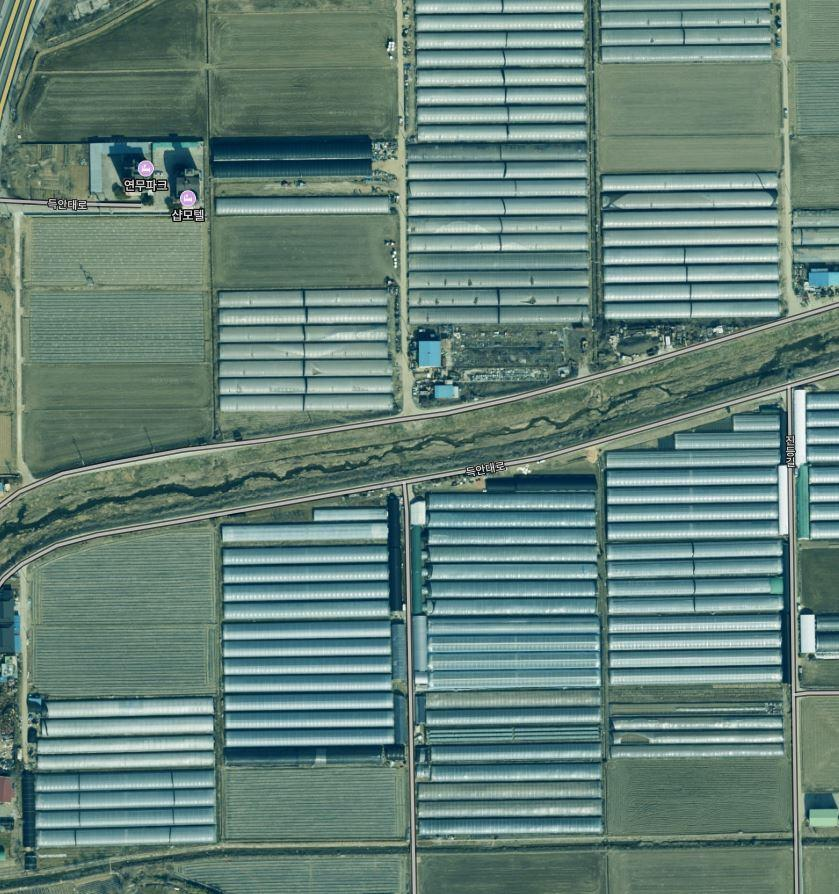greenhouse: (420, 701, 606, 735), (26, 782, 222, 814), (599, 572, 794, 604), (404, 156, 598, 188), (597, 259, 790, 291), (210, 130, 381, 166), (594, 185, 786, 217), (424, 611, 610, 644), (601, 296, 787, 328), (409, 738, 607, 768), (595, 167, 786, 198), (601, 240, 790, 271), (602, 591, 795, 621), (599, 205, 789, 235), (416, 664, 604, 694), (401, 175, 595, 204), (404, 250, 597, 279), (216, 538, 395, 569), (417, 761, 606, 790), (596, 5, 778, 35), (30, 803, 218, 832), (599, 278, 787, 307), (415, 814, 609, 842), (413, 793, 607, 821), (606, 483, 786, 513), (604, 611, 789, 640), (415, 778, 613, 805), (597, 24, 781, 53), (210, 154, 382, 185), (406, 9, 596, 37), (32, 823, 219, 851), (27, 767, 220, 794), (603, 554, 788, 582), (30, 713, 219, 740), (425, 630, 606, 658), (217, 669, 397, 697), (609, 740, 789, 768), (404, 284, 595, 310), (412, 28, 595, 55), (212, 193, 395, 220), (600, 226, 783, 253), (404, 194, 593, 220), (30, 748, 218, 774), (410, 303, 591, 330), (401, 267, 596, 292), (404, 213, 591, 239), (605, 630, 785, 657), (32, 694, 218, 720), (412, 66, 591, 93), (604, 538, 789, 564), (601, 465, 786, 491), (607, 662, 784, 689), (603, 446, 786, 472), (398, 230, 596, 254), (411, 48, 593, 74), (605, 647, 787, 673), (596, 44, 778, 70), (425, 649, 606, 675), (605, 501, 786, 527), (220, 687, 400, 713), (422, 595, 602, 621), (412, 84, 592, 110), (419, 544, 605, 568), (420, 512, 604, 536), (215, 562, 397, 586), (604, 520, 792, 543), (414, 104, 594, 128), (421, 578, 600, 602), (608, 712, 792, 735), (219, 637, 395, 661), (217, 580, 399, 603), (413, 123, 591, 146), (219, 724, 404, 746), (422, 491, 598, 514), (605, 728, 788, 750), (223, 653, 398, 676), (420, 561, 601, 583), (223, 746, 402, 768), (213, 620, 400, 641), (422, 528, 602, 548), (217, 359, 396, 378), (220, 523, 390, 543), (32, 736, 219, 753), (217, 344, 393, 361), (222, 711, 397, 728), (479, 471, 598, 496), (216, 325, 390, 342), (219, 602, 400, 618), (220, 396, 395, 412), (218, 290, 391, 306), (672, 430, 787, 454), (217, 379, 395, 394), (404, 610, 432, 695), (220, 310, 387, 323), (723, 408, 790, 430)
